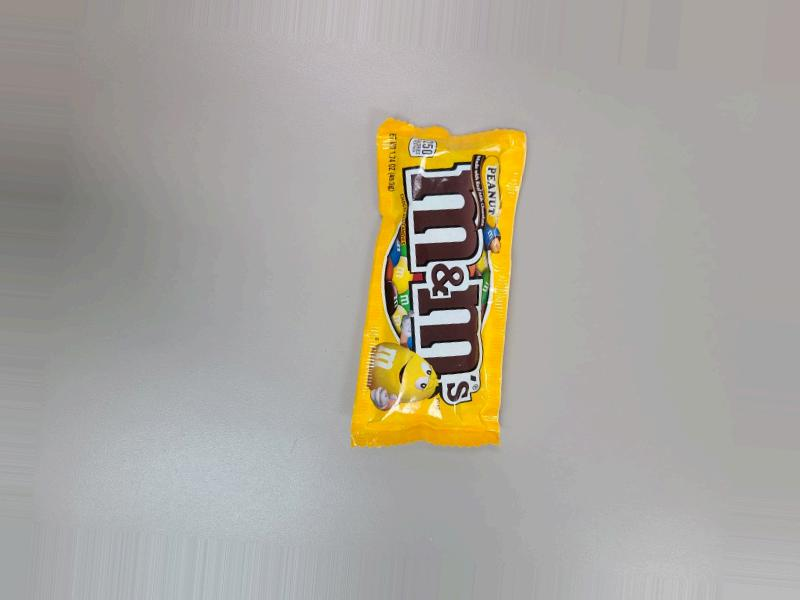m&m: (357, 139, 526, 465)
